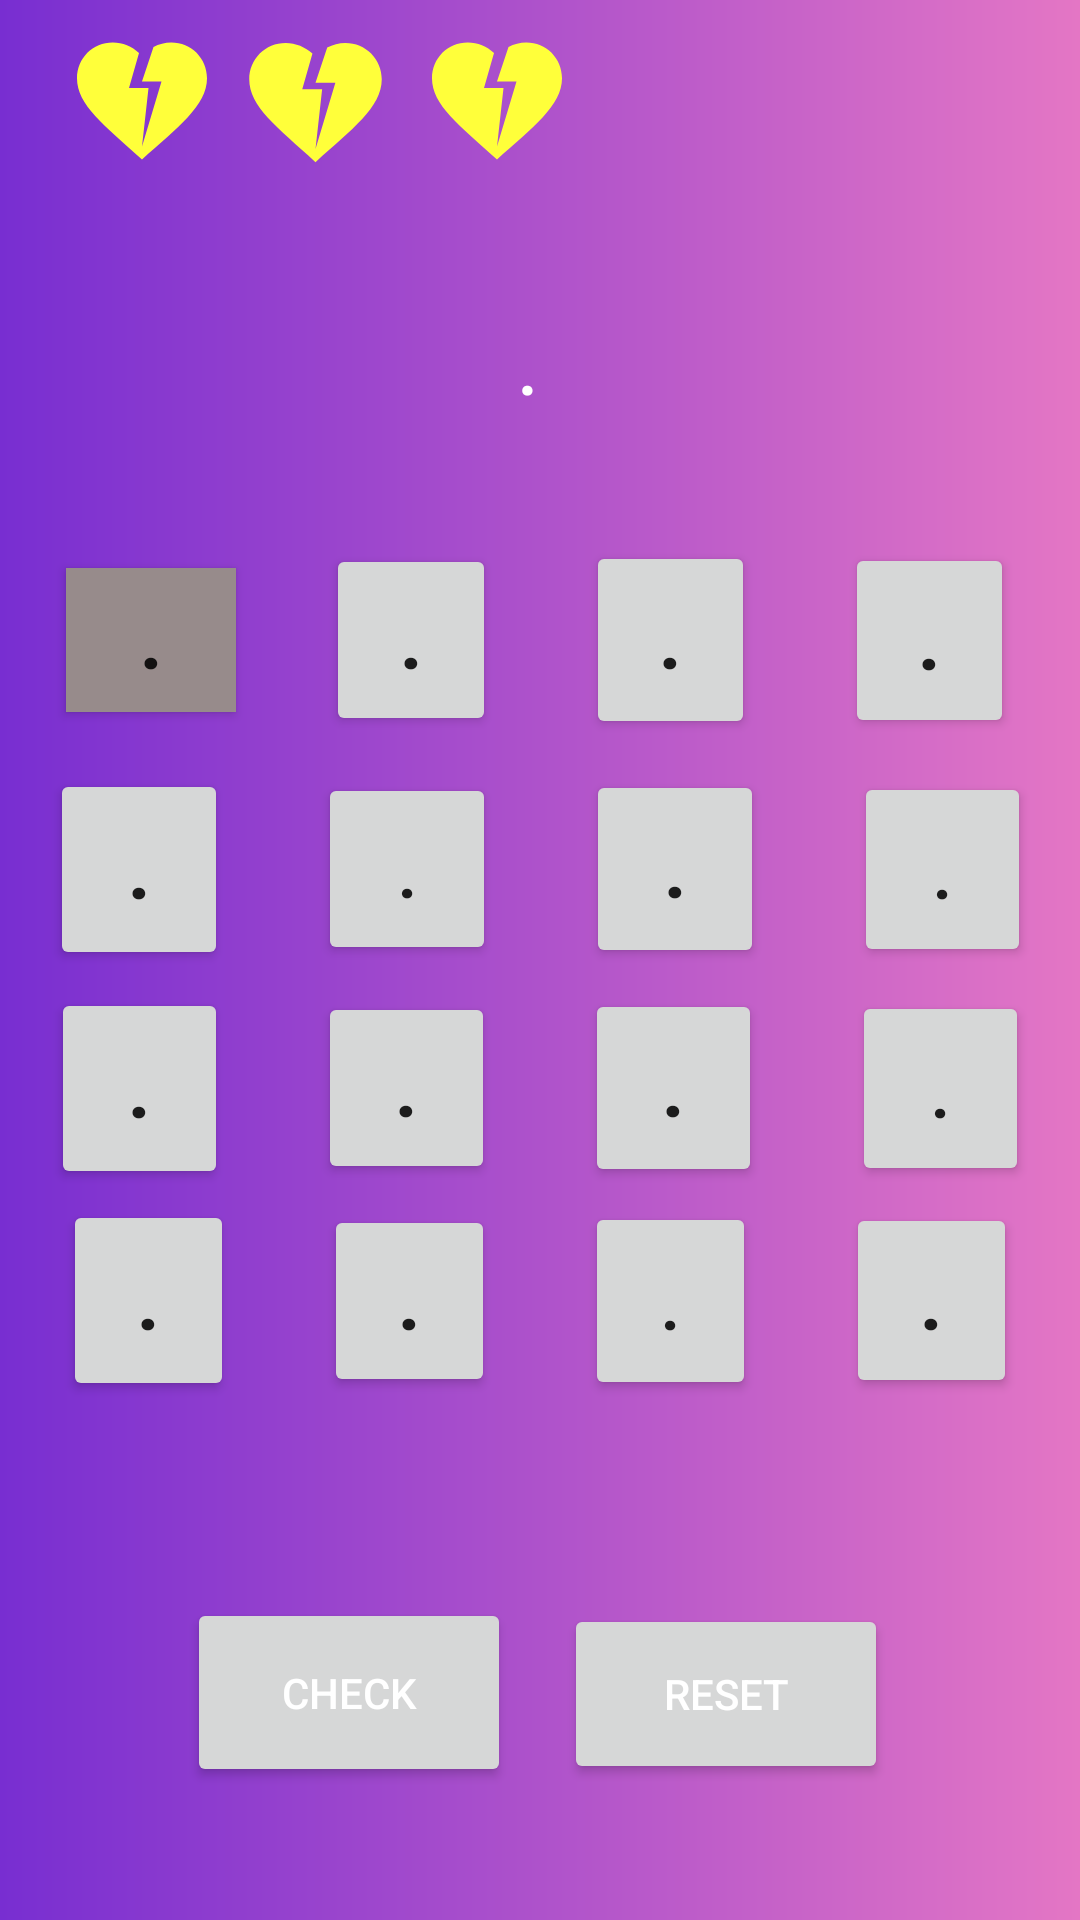

Icons on this 1080px×1920px Android screen, each with the point to tap as point (x, y):
heart life: point (142, 101), point (497, 101), point (315, 102)
